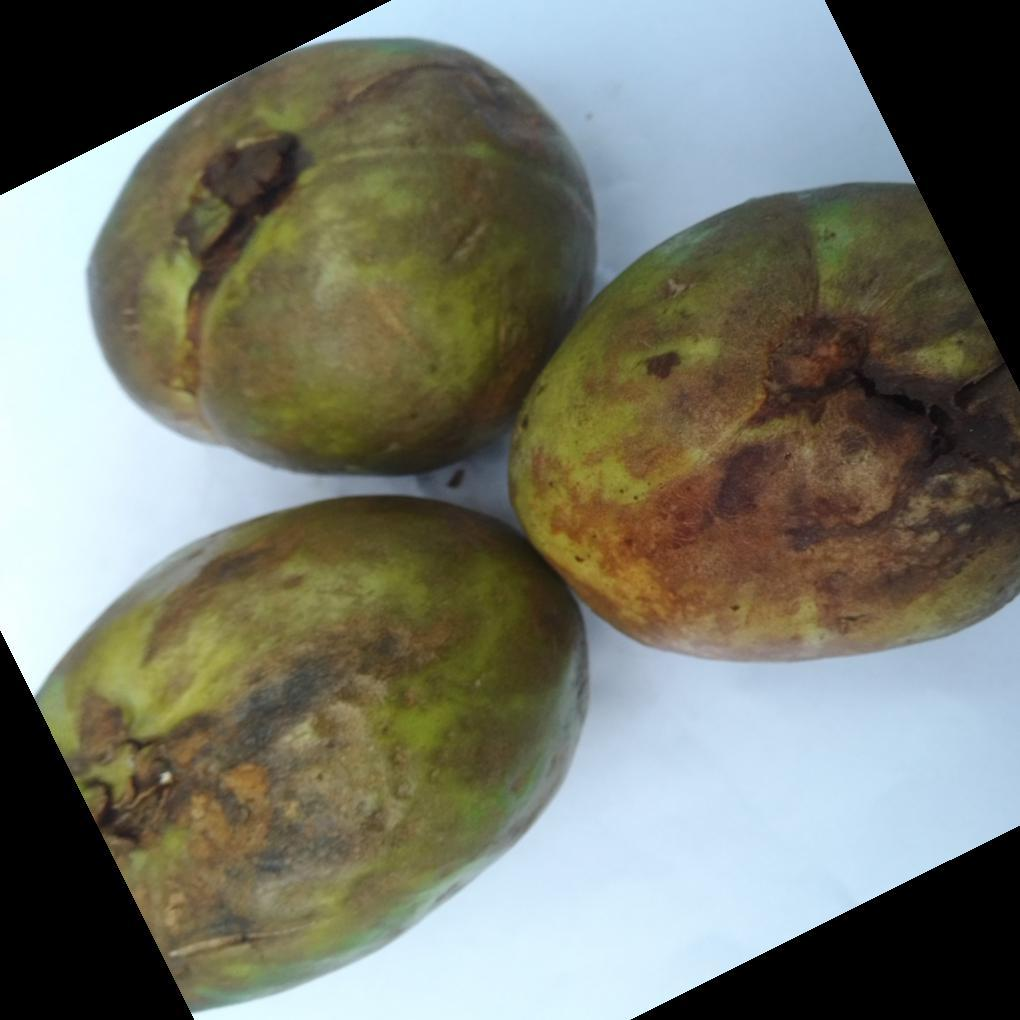FreshOrange: (35, 36, 1020, 1019)
